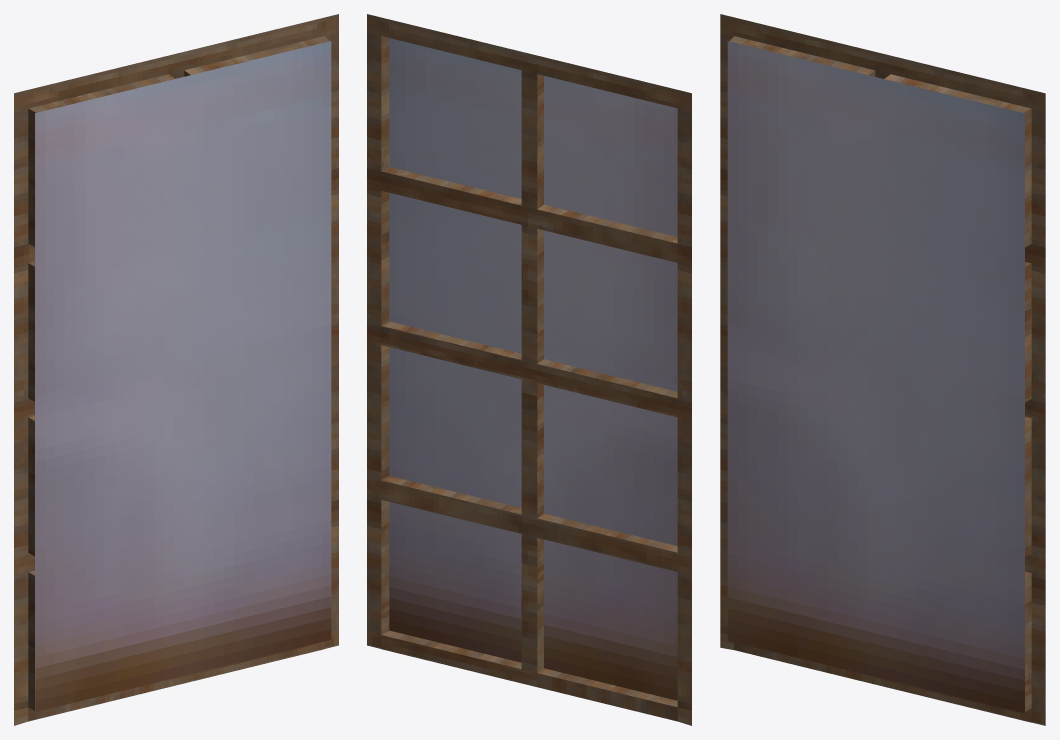
The model's file is GJ_Wall_Window_Frame_04.fbx.
3 renders of one model, left to right at view 1: azimuth 30°, elevation 25°; view 2: azimuth 150°, elevation 25°; view 3: azimuth 330°, elevation 25°, orthographic.
Visible parts, largest first — view 1: GJ_Wall_Window_Frame_04; view 2: GJ_Wall_Window_Frame_04; view 3: GJ_Wall_Window_Frame_04.
Boxes of the visible parts, x1,y1,x2,y2 form: GJ_Wall_Window_Frame_04: (14, 14, 338, 725); GJ_Wall_Window_Frame_04: (367, 14, 691, 725); GJ_Wall_Window_Frame_04: (720, 14, 1045, 725).
Bounding box in the file's own units: 87.5 × 163 × 3.1.
